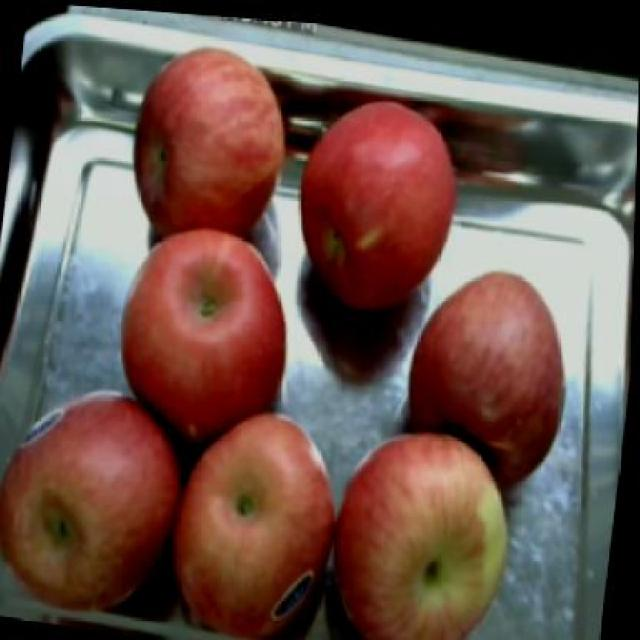Fresh Apple: (160, 413, 338, 640), (330, 424, 513, 640), (405, 270, 573, 479), (118, 232, 291, 428), (10, 393, 168, 600), (292, 113, 458, 302), (134, 46, 292, 243)
